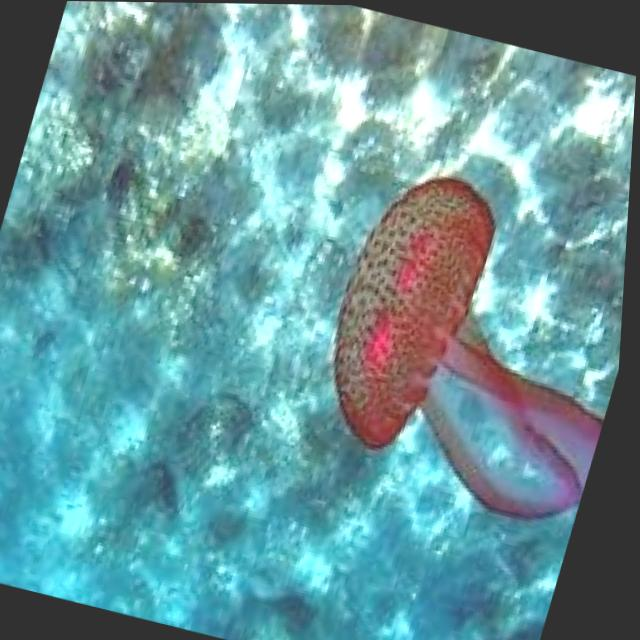Box-jellyfish: (295, 158, 633, 535)
